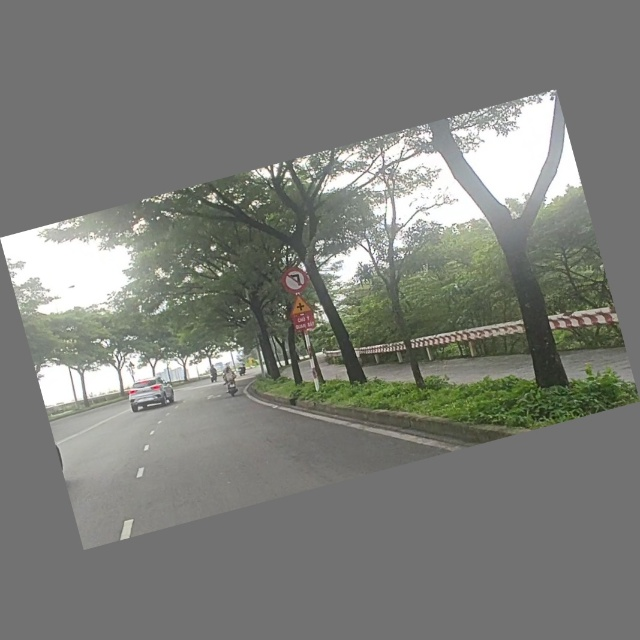P.123a: (279, 264, 314, 298)
W.205a: (282, 290, 316, 318)
